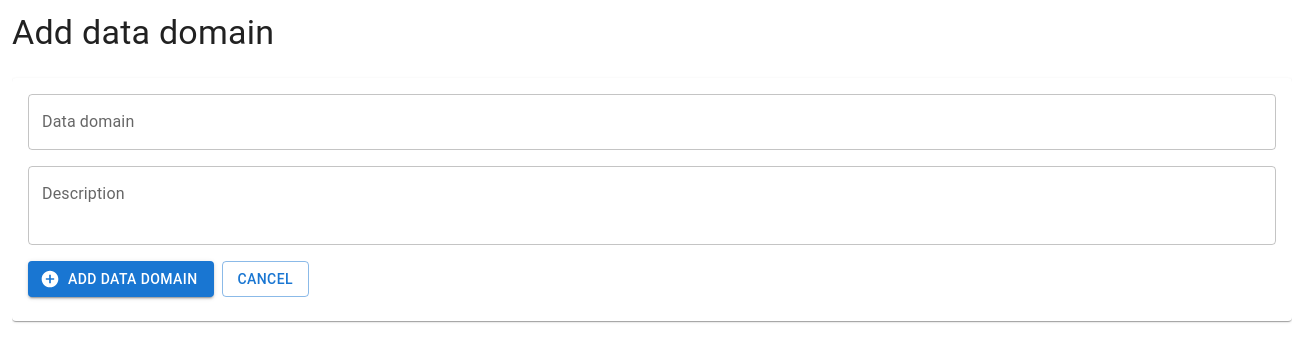
Test case: DataDomainCreatePage › disables submit button during save
The width and height of the screenshot is (1292, 340).
Type "Customer" into the field labelled "Data domain" at (652, 122), box 28,94 -> 1276,150
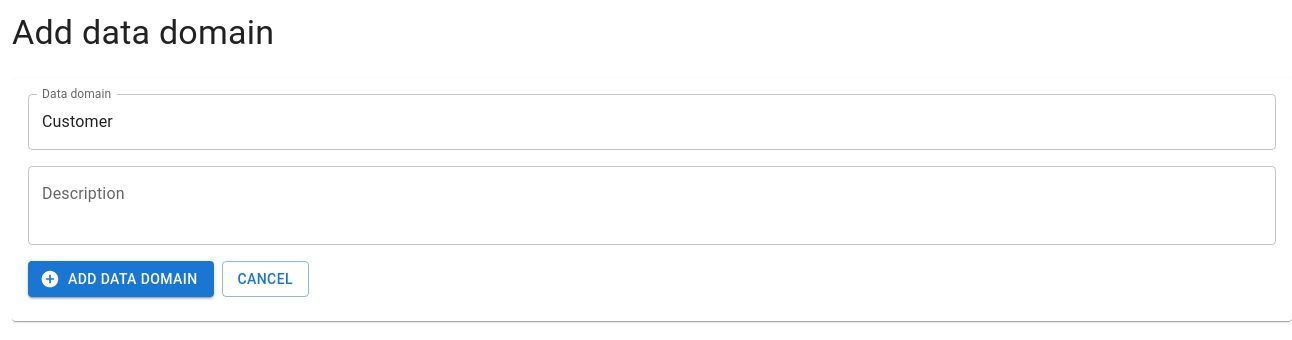
Click the button "Add data domain" at (121, 279), box 28,261 -> 214,298
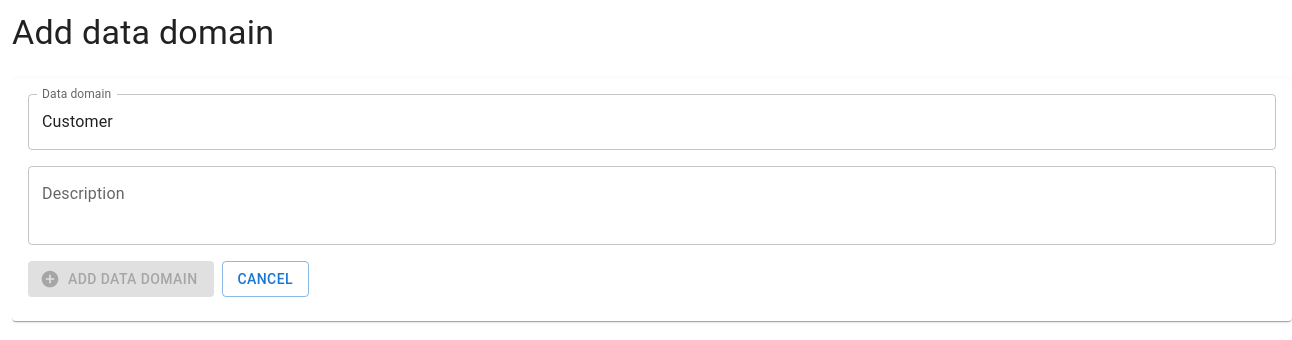
Now the button "Add data domain" is disabled, box 28,261 -> 214,298
